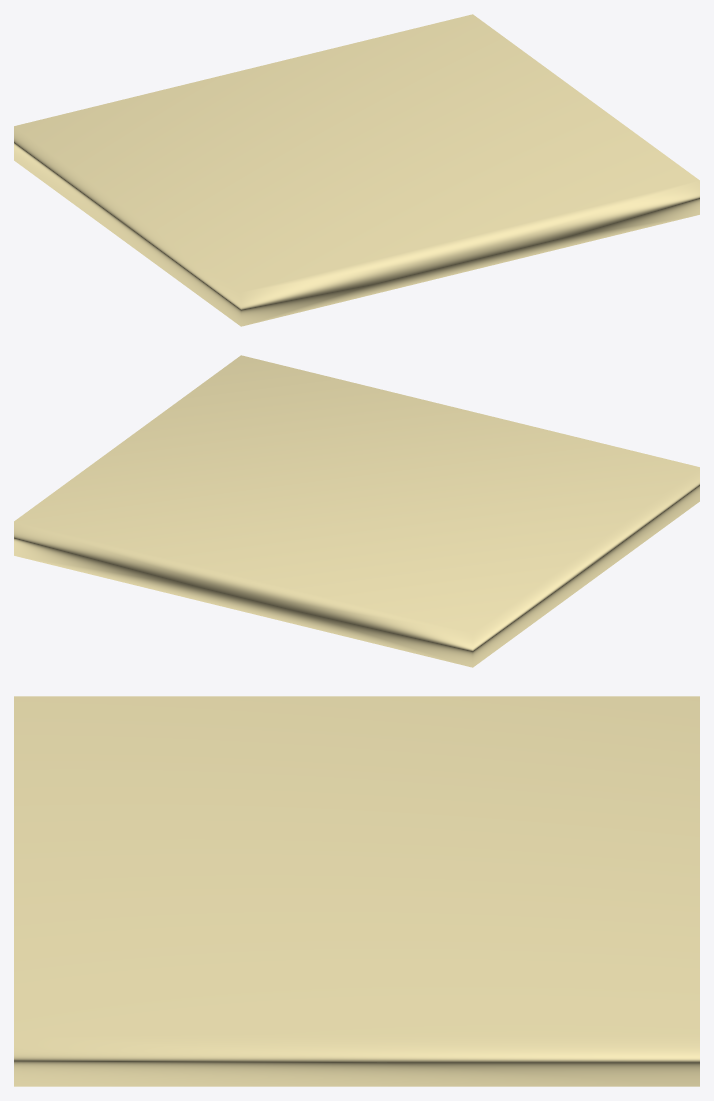
The model's file is SM_PorteHangar.obj.
The picture shows the model from 3 angles, top to bottom: view 1: azimuth 30°, elevation 25°; view 2: azimuth 150°, elevation 25°; view 3: azimuth 270°, elevation 25°; orthographic projection. The views are drawn at different scales.
Bounding box in the file's own units: 2800 × 200 × 2400.
